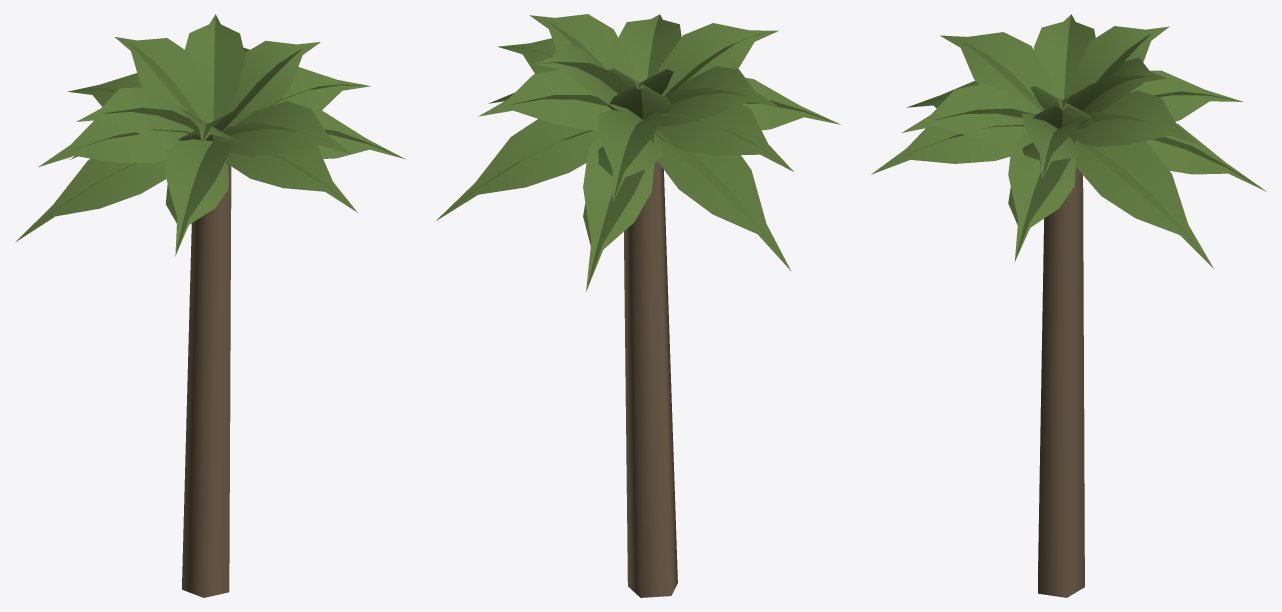
Rendered from palm-far.glb.
The picture shows the model from 3 angles, left to right: view 1: azimuth 30°, elevation 25°; view 2: azimuth 150°, elevation 25°; view 3: azimuth 270°, elevation 25°; orthographic projection. The views are drawn at different scales.
Visible parts, largest first — view 1: palm-far-palm-frond, palm-far-palm-trunk; view 2: palm-far-palm-frond, palm-far-palm-trunk; view 3: palm-far-palm-frond, palm-far-palm-trunk.
Part boxes in pixels (x1,y1,x2,y2): palm-far-palm-frond: (15,14,405,255); palm-far-palm-trunk: (182,161,231,597); palm-far-palm-frond: (436,14,841,291); palm-far-palm-trunk: (624,161,677,597); palm-far-palm-frond: (871,14,1266,268); palm-far-palm-trunk: (1038,166,1084,597).
Size of the model in its own units: 5.95 by 8.72 by 5.8.
